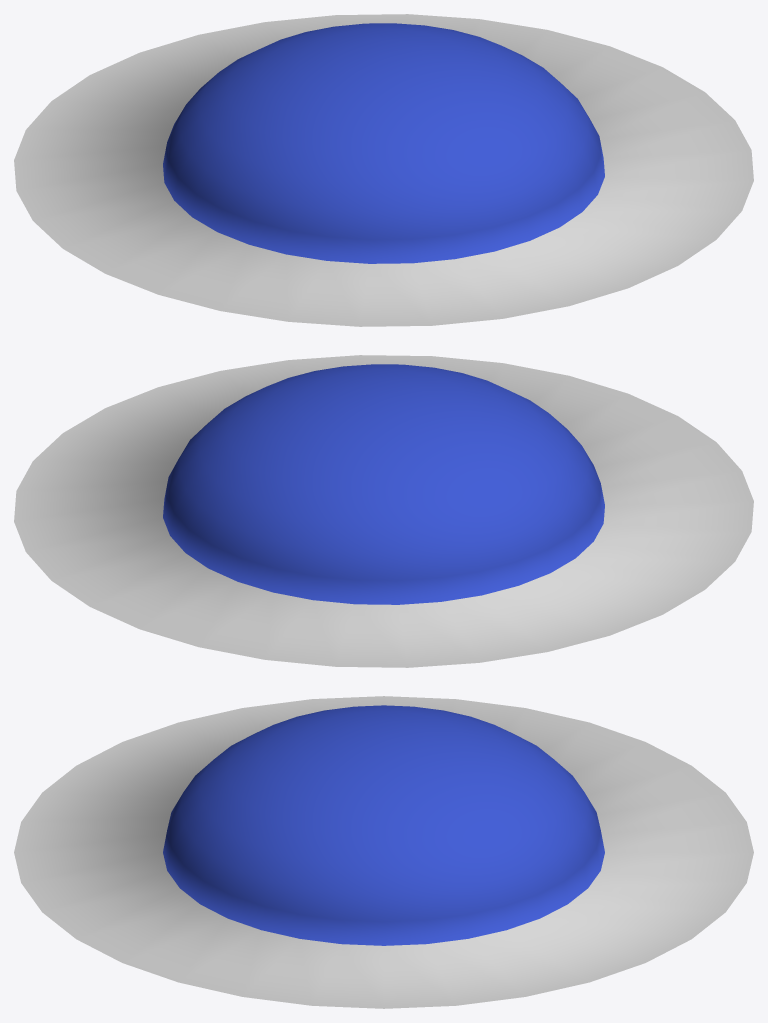
Rendered from mdl_roof.fbx.
3 views of the same model, one above another, from view 1: azimuth 30°, elevation 25°; view 2: azimuth 150°, elevation 25°; view 3: azimuth 270°, elevation 25° (orthographic).
Visible parts, largest first — view 1: mesh_roof; view 2: mesh_roof; view 3: mesh_roof.
Part boxes in pixels (<box>): mesh_roof: <box>14,14,753,326</box>; mesh_roof: <box>14,355,753,667</box>; mesh_roof: <box>14,696,753,1008</box>.
Bounding box in the file's own units: 117 × 20.24 × 117.
